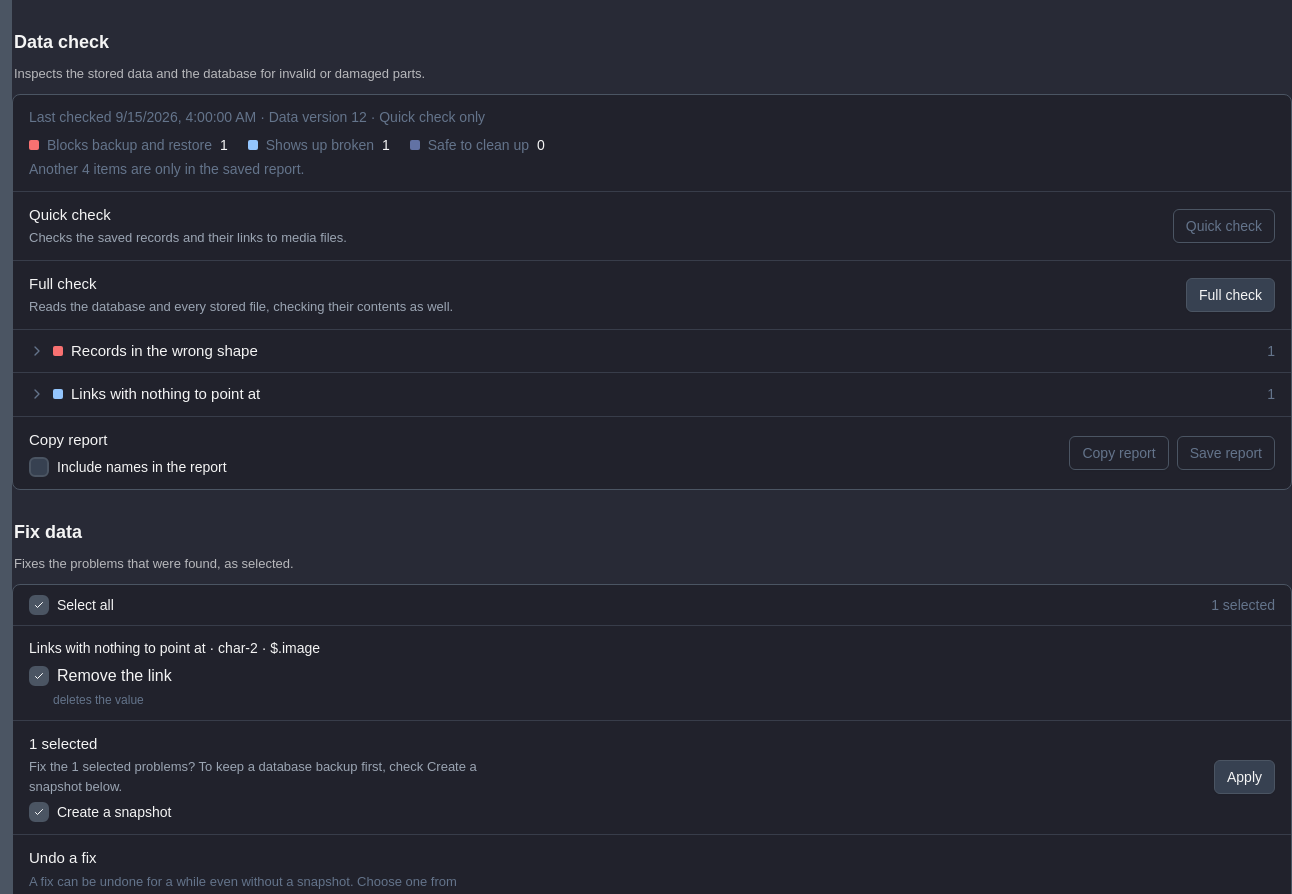
Scenario: RisuNestDataHealth › clears and restores every answer from the select-all box
Click the checkbox labelled "Select all". click: (71, 604)
box: x1=29 y1=594 x2=114 y2=614
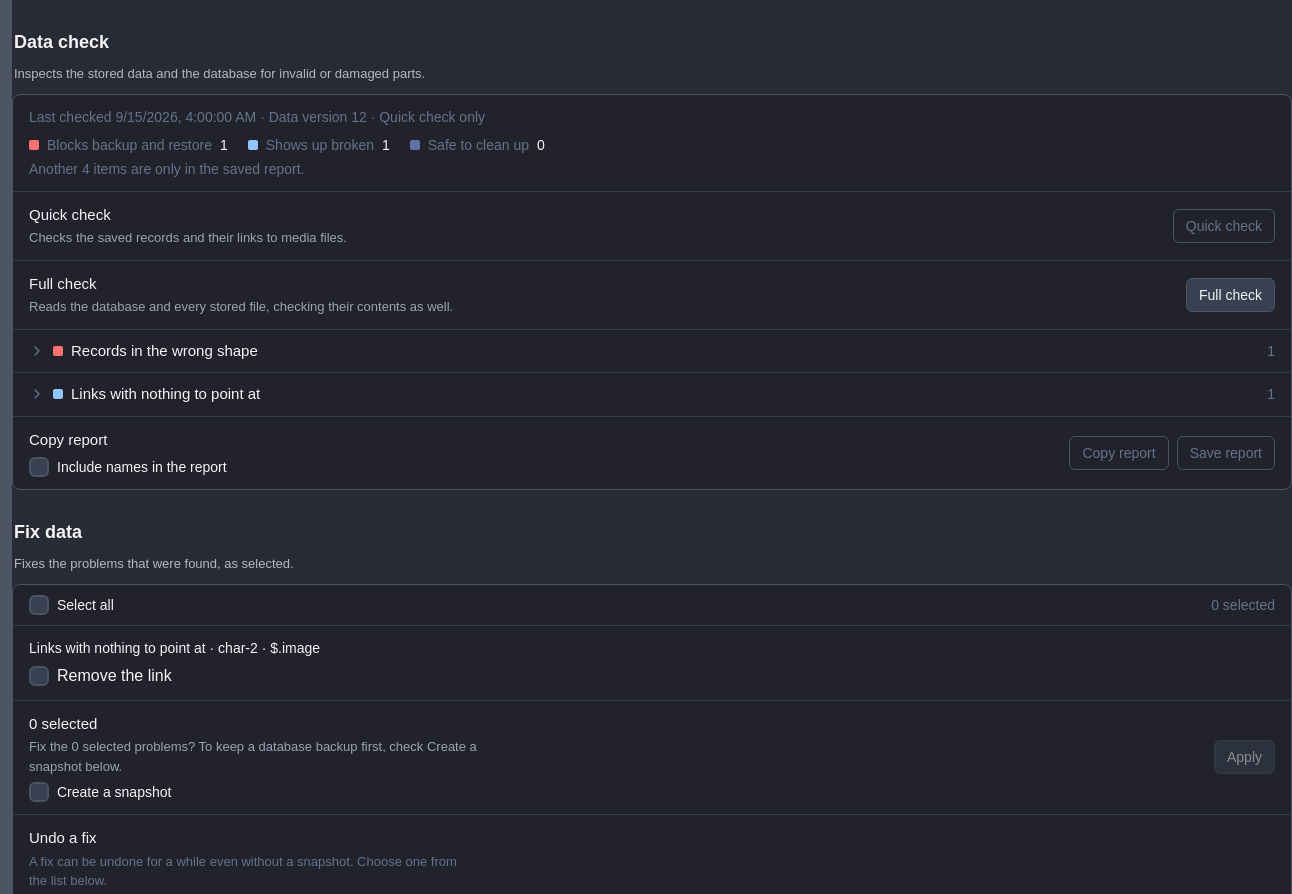
expect the button "Apply" is disabled: met, box x1=1214 y1=740 x2=1275 y2=774
Click the checkbox labelled "Select all". click: (71, 604)
box: x1=29 y1=594 x2=114 y2=614
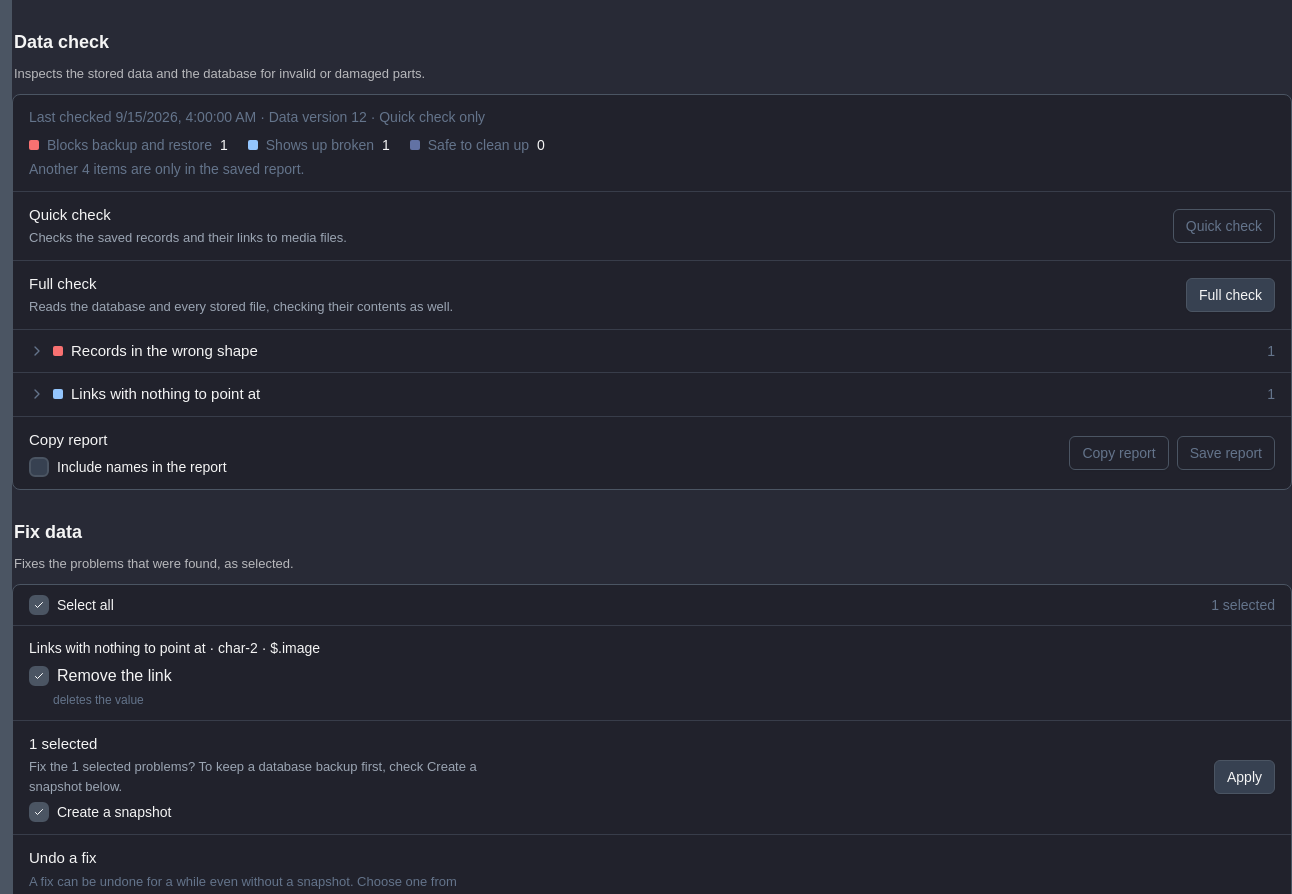
expect the button "Apply" is enabled: met, box x1=1214 y1=760 x2=1275 y2=794
